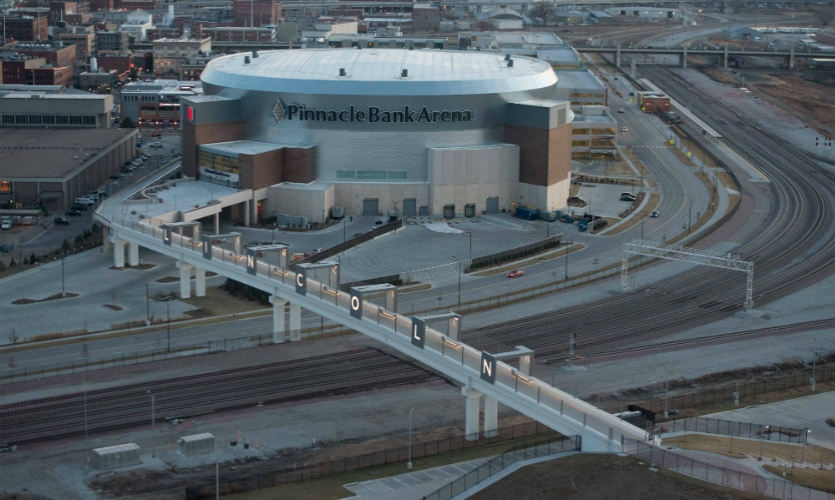bridge: (91, 186, 645, 456), (574, 40, 801, 67), (624, 241, 760, 276)
